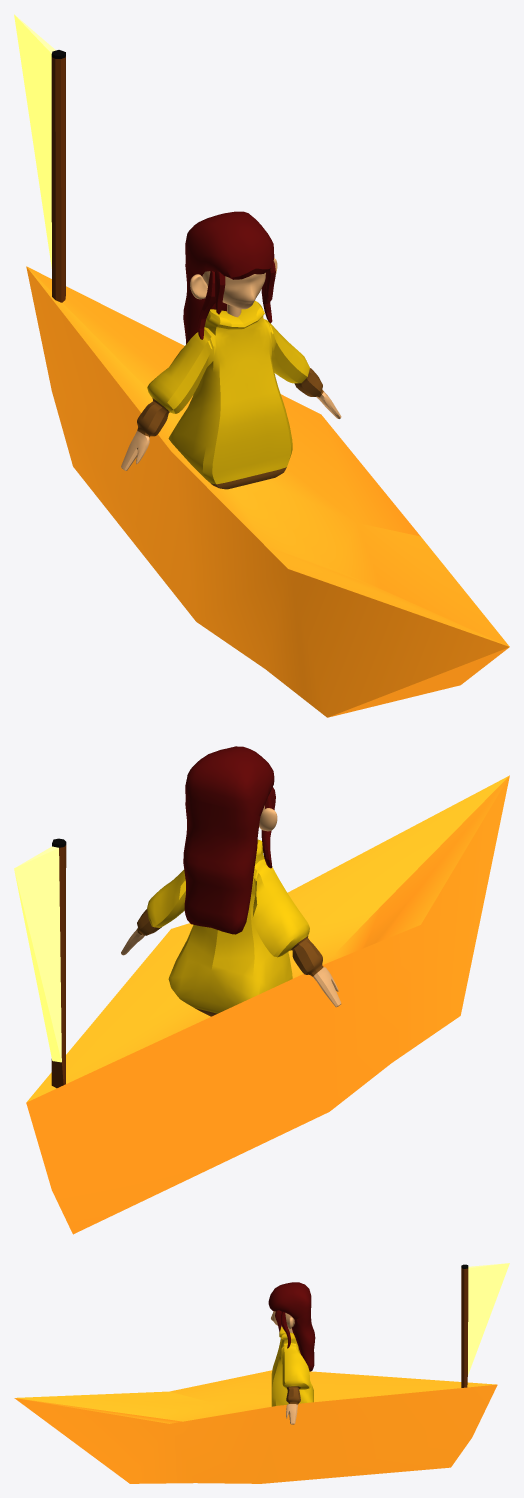
The model's file is boat.glb.
The picture shows the model from 3 angles, top to bottom: view 1: azimuth 30°, elevation 25°; view 2: azimuth 150°, elevation 25°; view 3: azimuth 270°, elevation 25°; orthographic projection. The views are drawn at different scales.
Parts seen in each view (by area): view 1: Plane.001; view 2: Plane.001; view 3: Plane.001.
Boxes of the visible parts, box(x1,y1,x2,y2) form: Plane.001: box(14, 14, 509, 717); Plane.001: box(14, 746, 509, 1234); Plane.001: box(14, 1263, 509, 1483).
Size of the model in its own units: 1.92 by 3.44 by 7.56.
